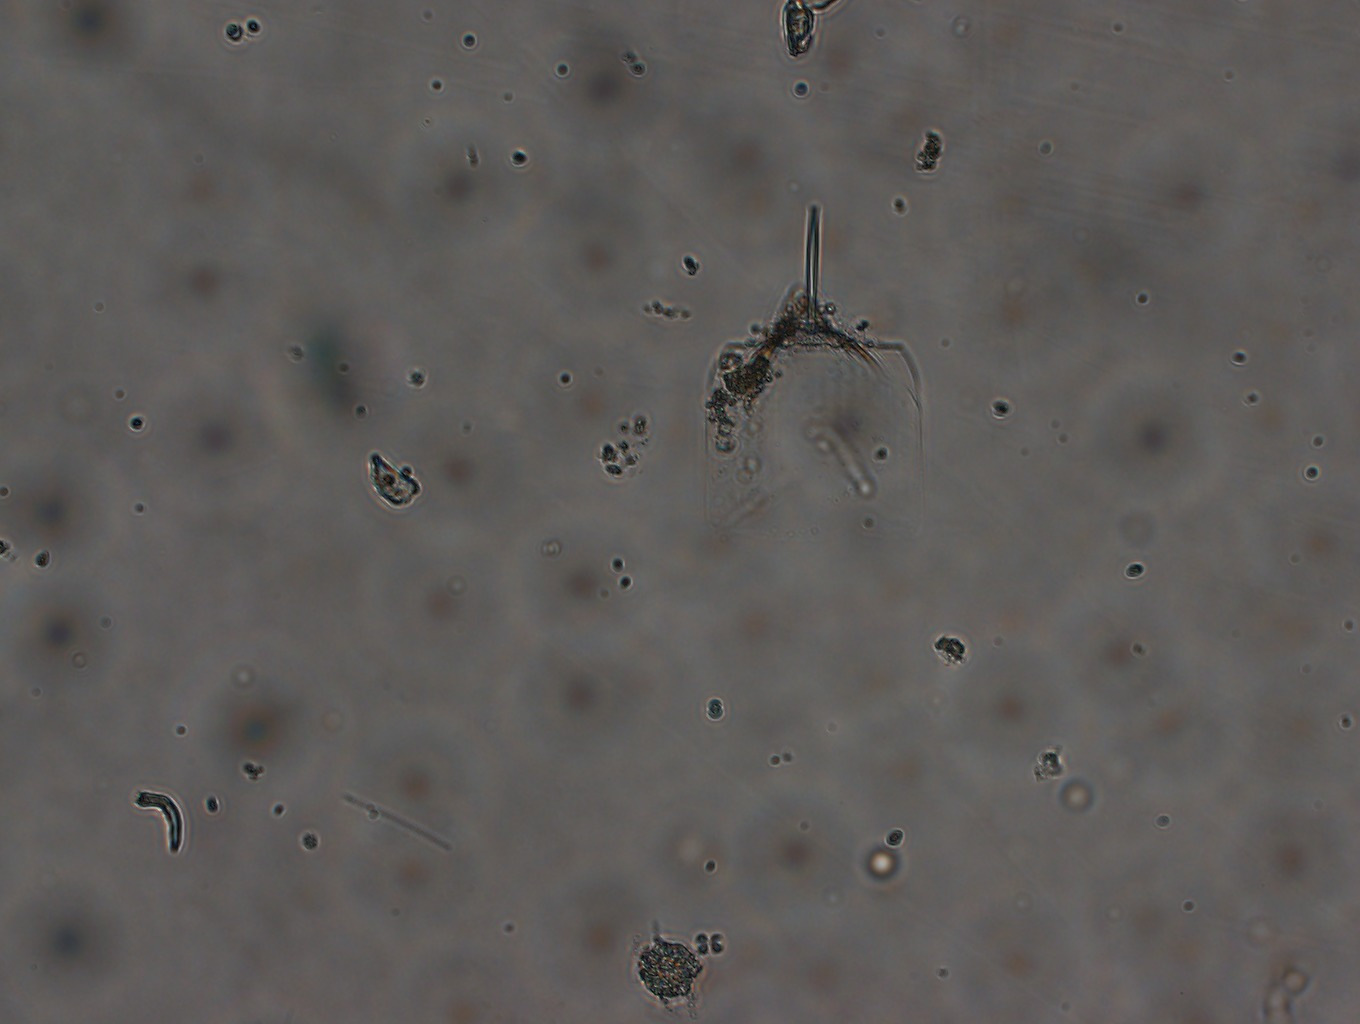ditylum: (682, 189, 943, 523)
